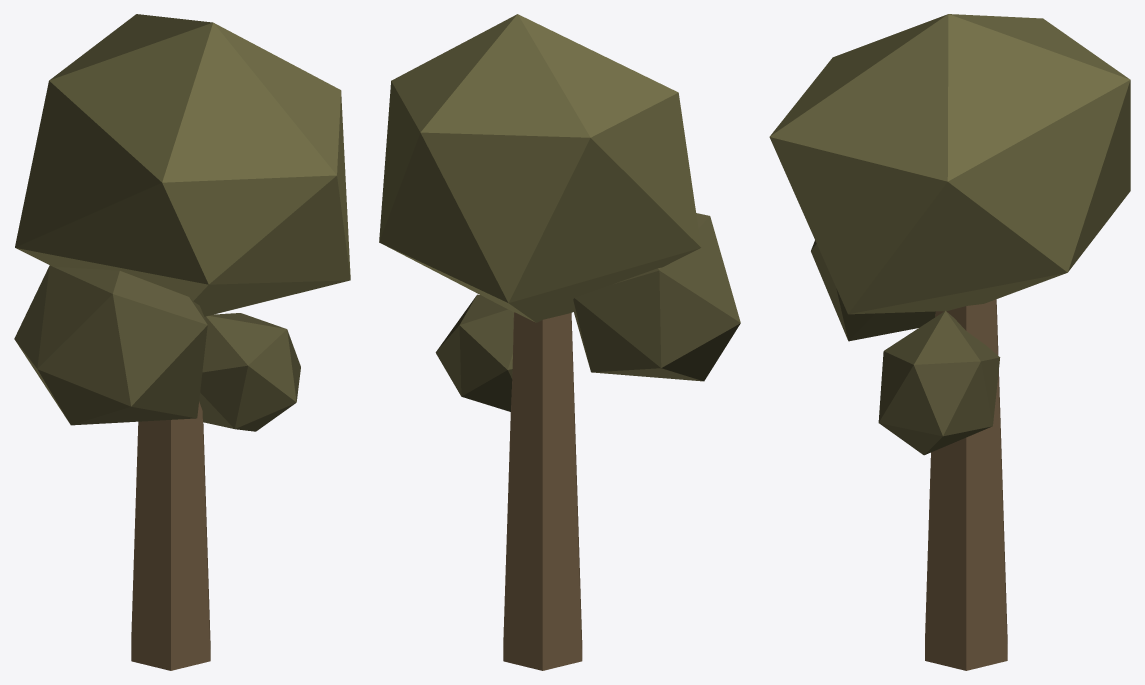
The model's file is SM_Prop_Tree_02.fbx.
3 views of the same model, side by side, from view 1: azimuth 30°, elevation 25°; view 2: azimuth 150°, elevation 25°; view 3: azimuth 270°, elevation 25° (orthographic). The views are drawn at different scales.
Parts seen in each view (by area): view 1: SM_Prop_Tree_02; view 2: SM_Prop_Tree_02; view 3: SM_Prop_Tree_02.
Part boxes in pixels (x1=…): SM_Prop_Tree_02: x1=14, y1=14, x2=350, y2=670; SM_Prop_Tree_02: x1=379, y1=14, x2=740, y2=670; SM_Prop_Tree_02: x1=769, y1=14, x2=1130, y2=670.
Bounding box in the file's own units: 23.92 × 43.72 × 21.88.
